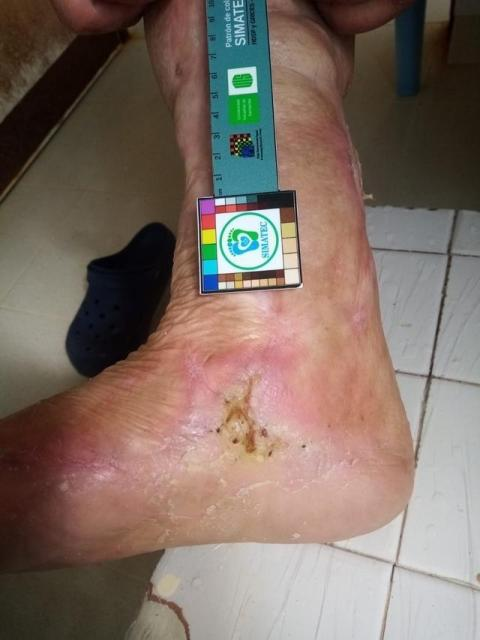wound: (220, 371, 266, 460)
